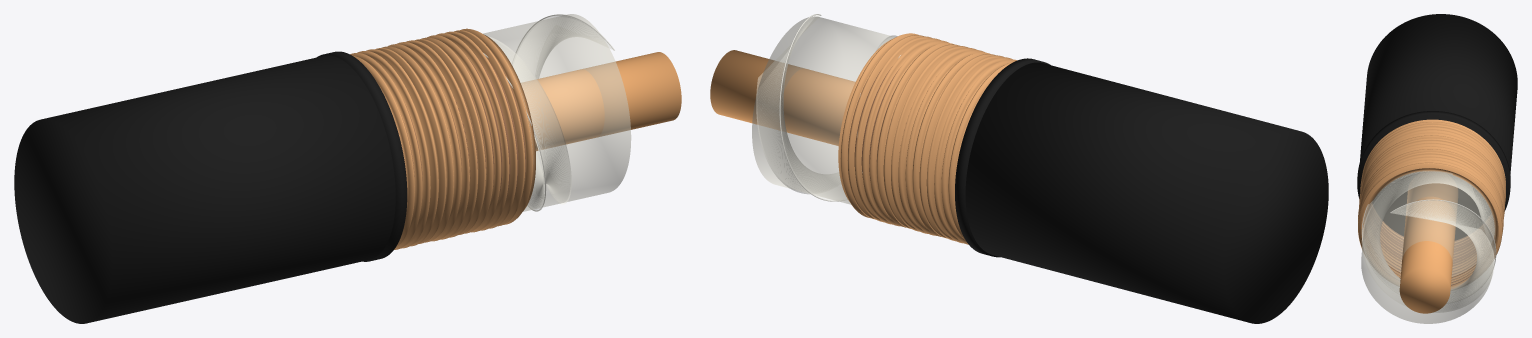
3 views of the same model, side by side, from view 1: azimuth 30°, elevation 25°; view 2: azimuth 150°, elevation 25°; view 3: azimuth 270°, elevation 25° (orthographic). The views are drawn at different scales.
Parts seen in each view (by area): view 1: black PE jacket body, corrugated copper shield, foam PE dielectric, solid center conductor continuous, surface PTFE tape wrap, jacket cut lip, dark groove shadow pass; view 2: black PE jacket body, corrugated copper shield, foam PE dielectric, solid center conductor continuous, surface PTFE tape wrap, jacket cut lip, dark groove shadow pass; view 3: black PE jacket body, foam PE dielectric, corrugated copper shield, surface PTFE tape wrap, solid center conductor continuous, jacket cut lip, dark groove shadow pass, subtle PTFE tape lap line.
Boxes of the visible parts, <box> form: black PE jacket body: <box>14,55,395,323</box>; corrugated copper shield: <box>350,28,535,249</box>; foam PE dielectric: <box>483,14,631,211</box>; solid center conductor continuous: <box>521,52,681,150</box>; surface PTFE tape wrap: <box>488,15,613,210</box>; jacket cut lip: <box>317,51,407,261</box>; dark groove shadow pass: <box>395,56,525,197</box>; black PE jacket body: <box>965,62,1328,323</box>; corrugated copper shield: <box>838,33,1016,244</box>; foam PE dielectric: <box>752,16,895,204</box>; solid center conductor continuous: <box>710,50,855,145</box>; surface PTFE tape wrap: <box>756,15,896,200</box>; jacket cut lip: <box>955,58,1050,257</box>; dark groove shadow pass: <box>848,66,910,180</box>; black PE jacket body: <box>1360,14,1517,174</box>; foam PE dielectric: <box>1361,170,1495,323</box>; corrugated copper shield: <box>1358,119,1505,289</box>; surface PTFE tape wrap: <box>1362,171,1495,312</box>; solid center conductor continuous: <box>1399,171,1457,313</box>; jacket cut lip: <box>1357,111,1510,240</box>; dark groove shadow pass: <box>1370,206,1492,285</box>; subtle PTFE tape lap line: <box>1361,199,1496,268</box>.
Size of the model in its own units: 6.69 by 2.07 by 2.17.
